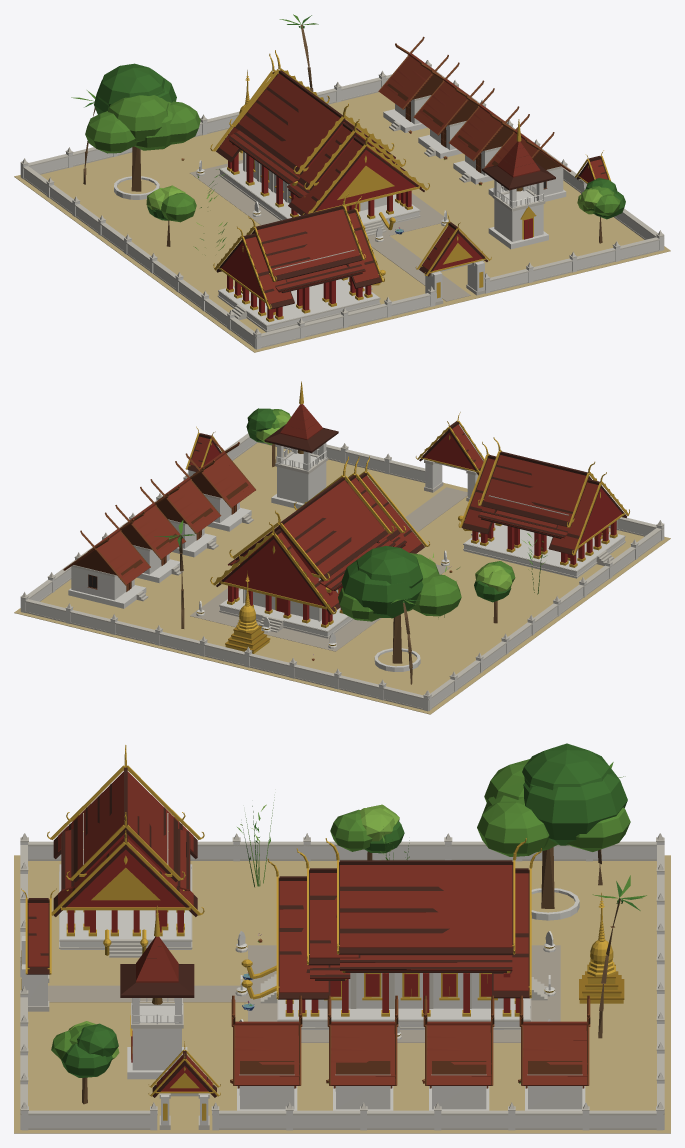
File: temple_2.glb
The picture shows the model from 3 angles, top to bottom: view 1: azimuth 30°, elevation 25°; view 2: azimuth 150°, elevation 25°; view 3: azimuth 270°, elevation 25°; orthographic projection. The views are drawn at different scales.
Parts seen in each view (by area): view 1: body; view 2: body; view 3: body.
Boxes of the visible parts, box(x1,y1,x2,y2) form: body: box(14, 14, 670, 352); body: box(14, 381, 670, 714); body: box(14, 743, 670, 1133).
Bounding box in the file's own units: 47.9 × 13.33 × 47.9.
